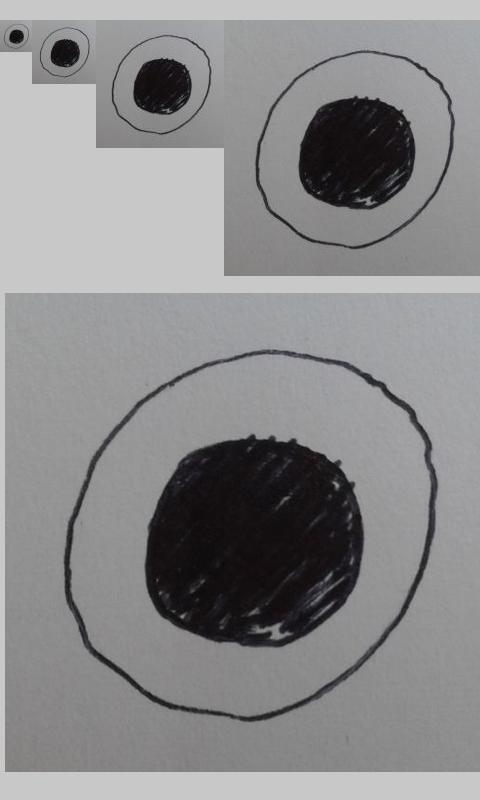radio_button: (57, 344, 442, 724), (251, 46, 458, 253), (110, 33, 213, 136), (38, 26, 92, 79), (2, 23, 30, 49)
